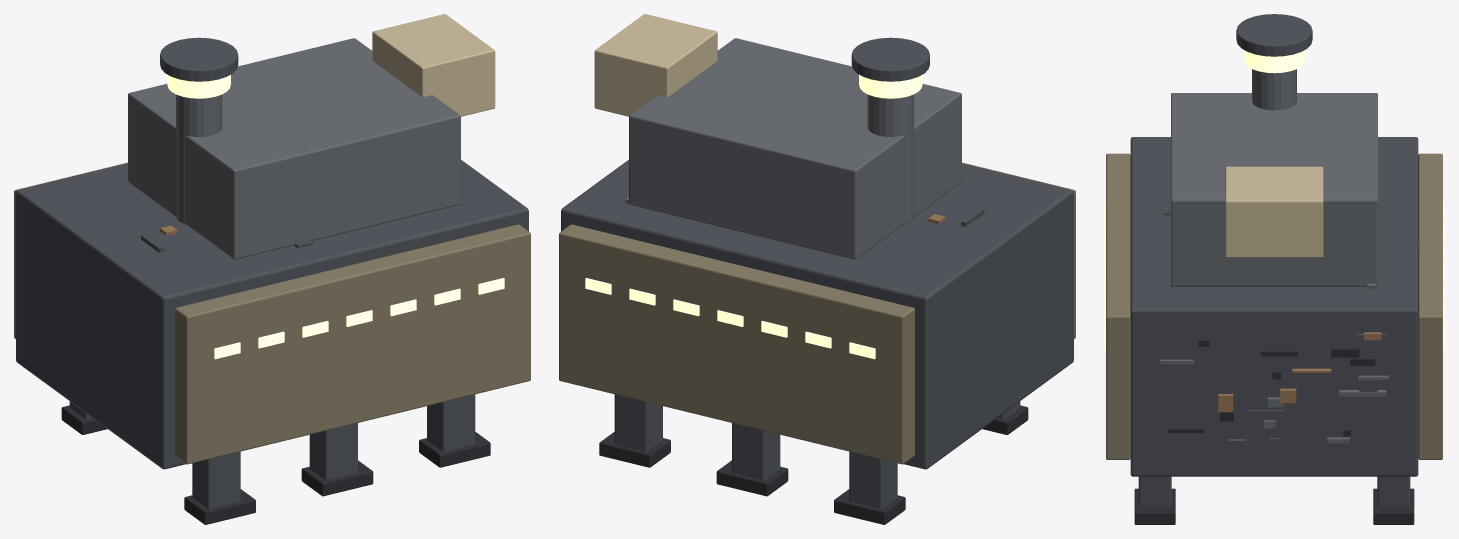
File: landmark_lighthouse.fbx
3 renders of one model, left to right at view 1: azimuth 30°, elevation 25°; view 2: azimuth 150°, elevation 25°; view 3: azimuth 270°, elevation 25°, orthographic. The views are drawn at different scales.
Parts seen in each view (by area): view 1: SM_Landmark_Lighthouse; view 2: SM_Landmark_Lighthouse; view 3: SM_Landmark_Lighthouse.
Boxes of the visible parts, box(x1,y1,x2,y2) form: SM_Landmark_Lighthouse: box(14, 14, 530, 524); SM_Landmark_Lighthouse: box(559, 14, 1075, 524); SM_Landmark_Lighthouse: box(1104, 14, 1444, 524).
Size of what is drawn, in the model's own units: 2080 by 2100 by 1654.
